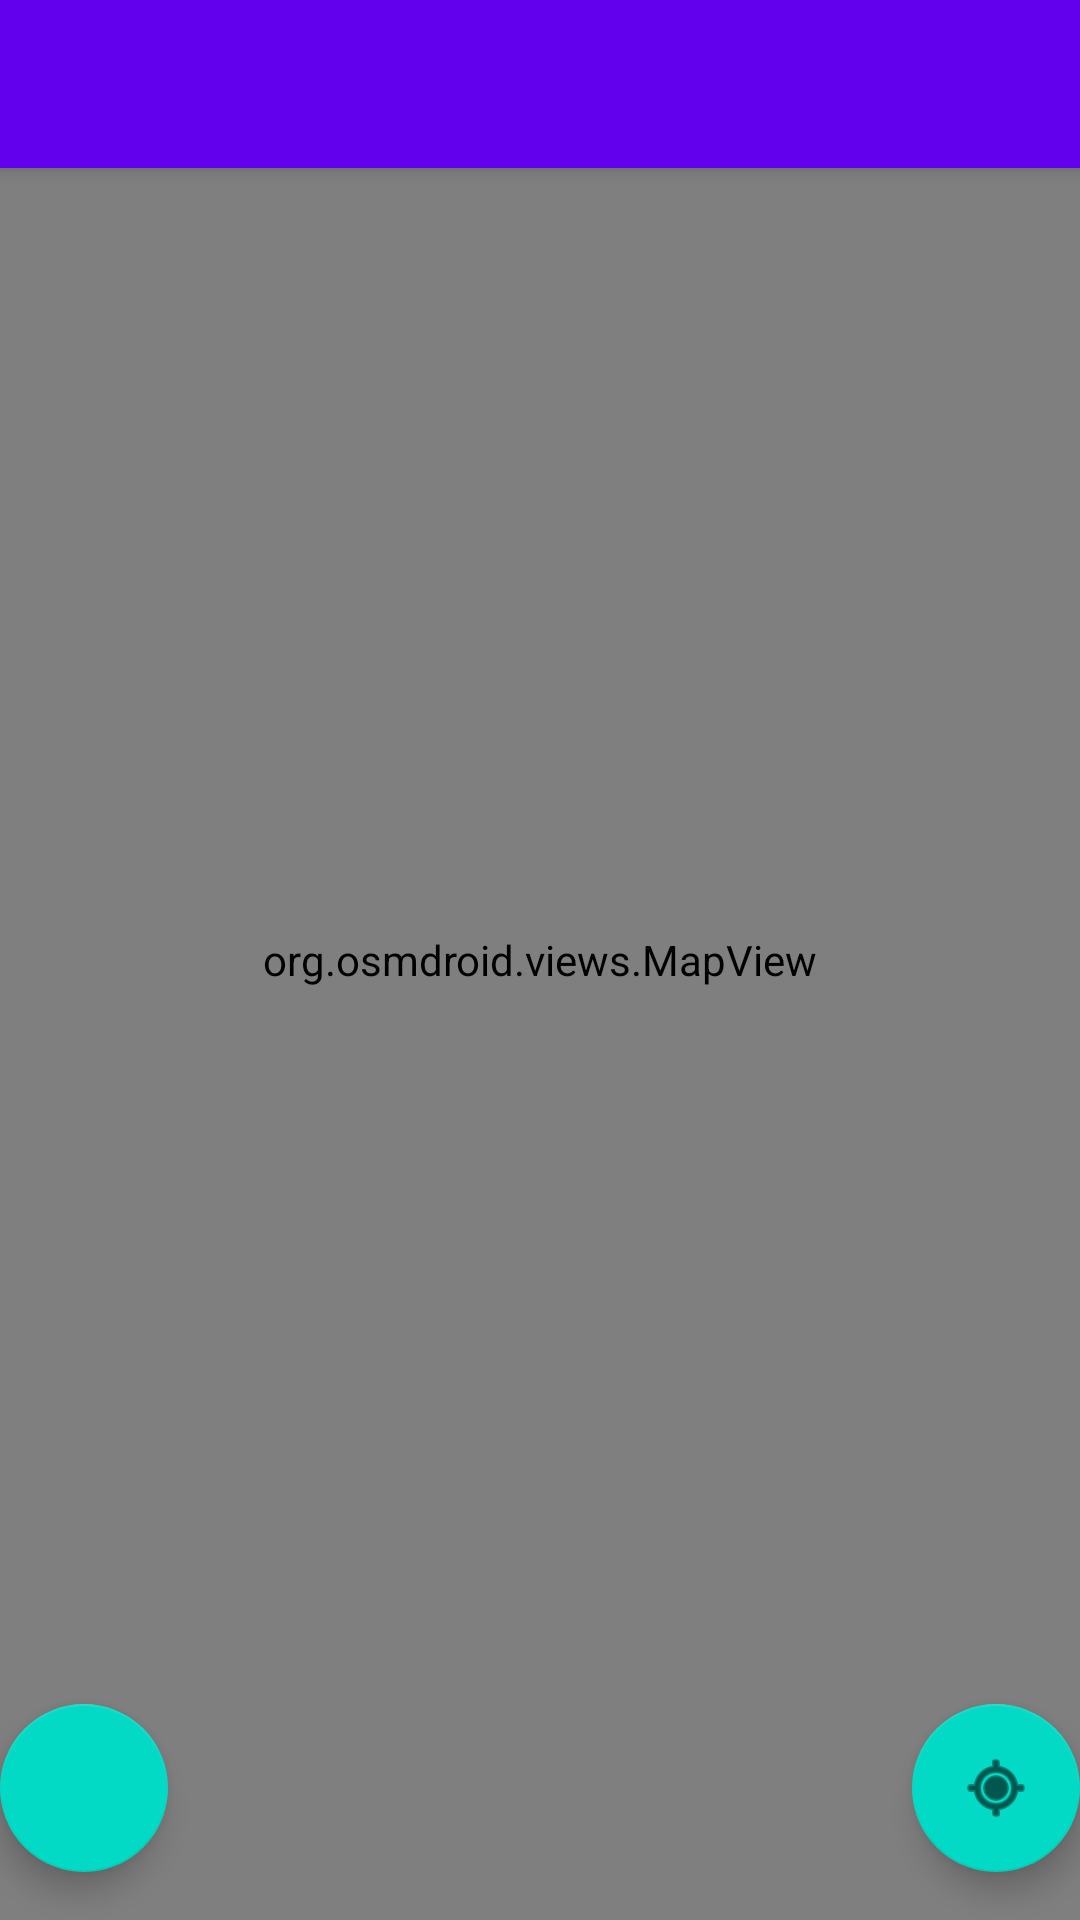

Screen size 1080px x 1920px. Icon name, then its center in pixels as (x,y):
mylocation: (996,1788)
